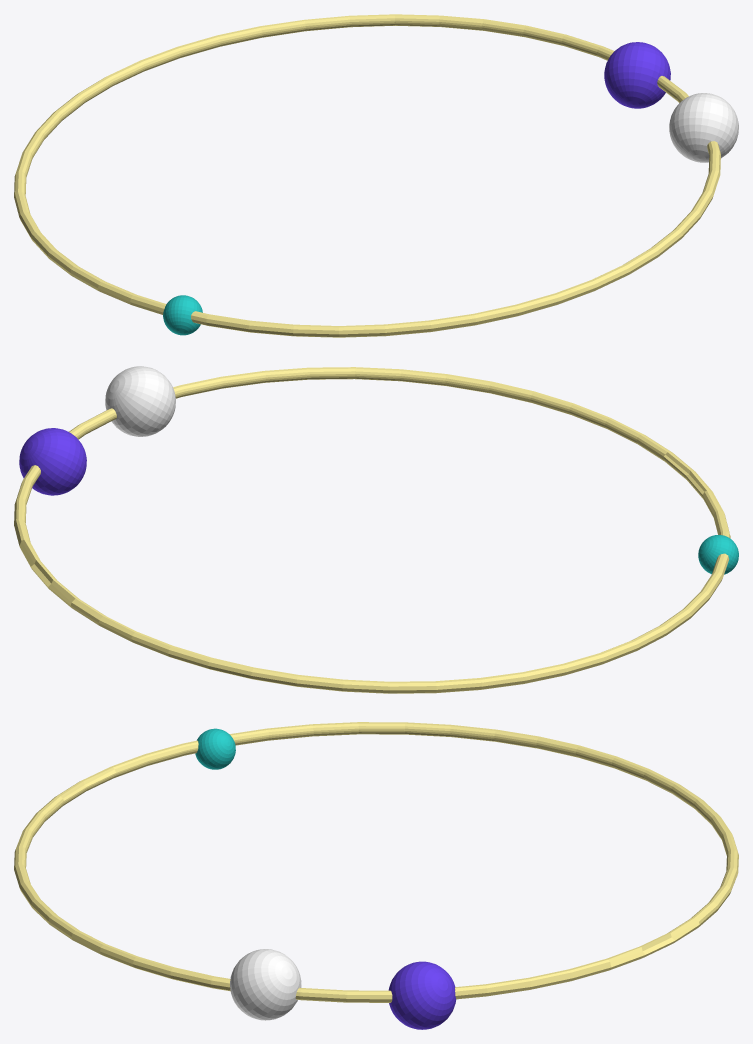
File: frame1.fbx
The picture shows the model from 3 angles, top to bottom: view 1: azimuth 30°, elevation 25°; view 2: azimuth 150°, elevation 25°; view 3: azimuth 270°, elevation 25°; orthographic projection. The views are drawn at different scales.
Visible parts, largest first — view 1: Sphere.006; view 2: Sphere.006; view 3: Sphere.006.
Part boxes in pixels (box(x1,y1,x2,y2)): Sphere.006: box(14, 14, 738, 337); Sphere.006: box(14, 366, 738, 693); Sphere.006: box(14, 722, 738, 1029).
Bounding box in the file's own units: 687 × 90.16 × 672.
